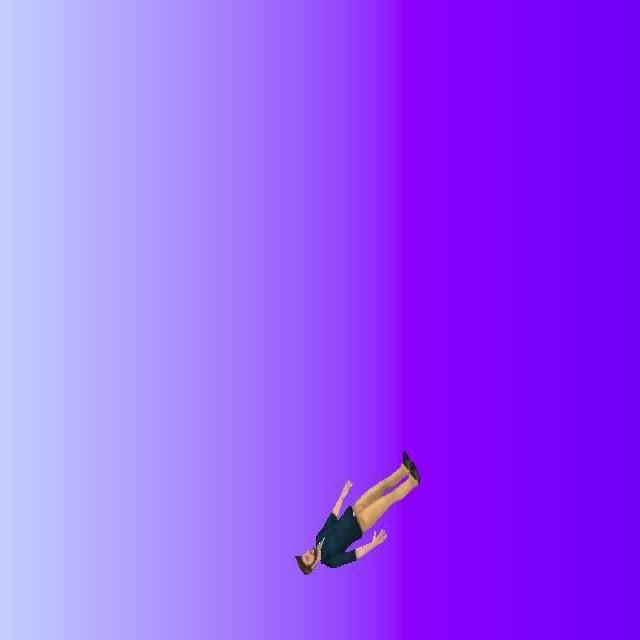obstacle: (293, 450, 424, 578)
